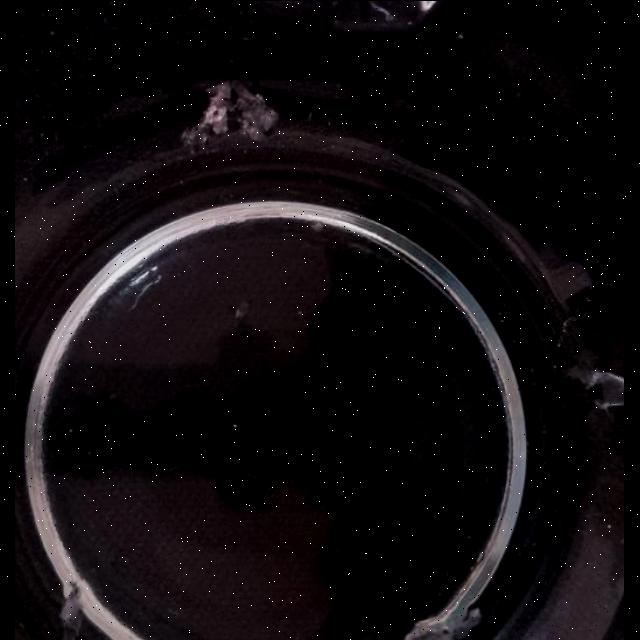Fibre: (182, 76, 282, 150), (402, 601, 482, 639), (59, 584, 87, 638), (232, 300, 250, 320)
microbeads: (310, 219, 326, 231), (232, 422, 240, 428)
